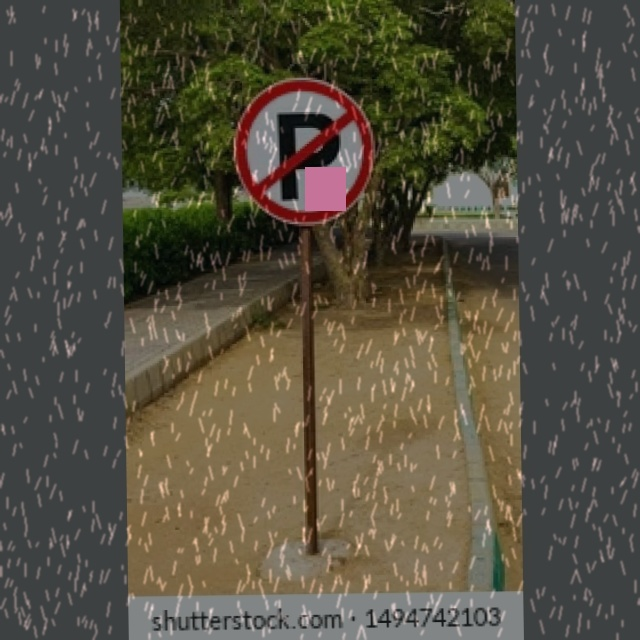No_Parking: (233, 79, 376, 228)
